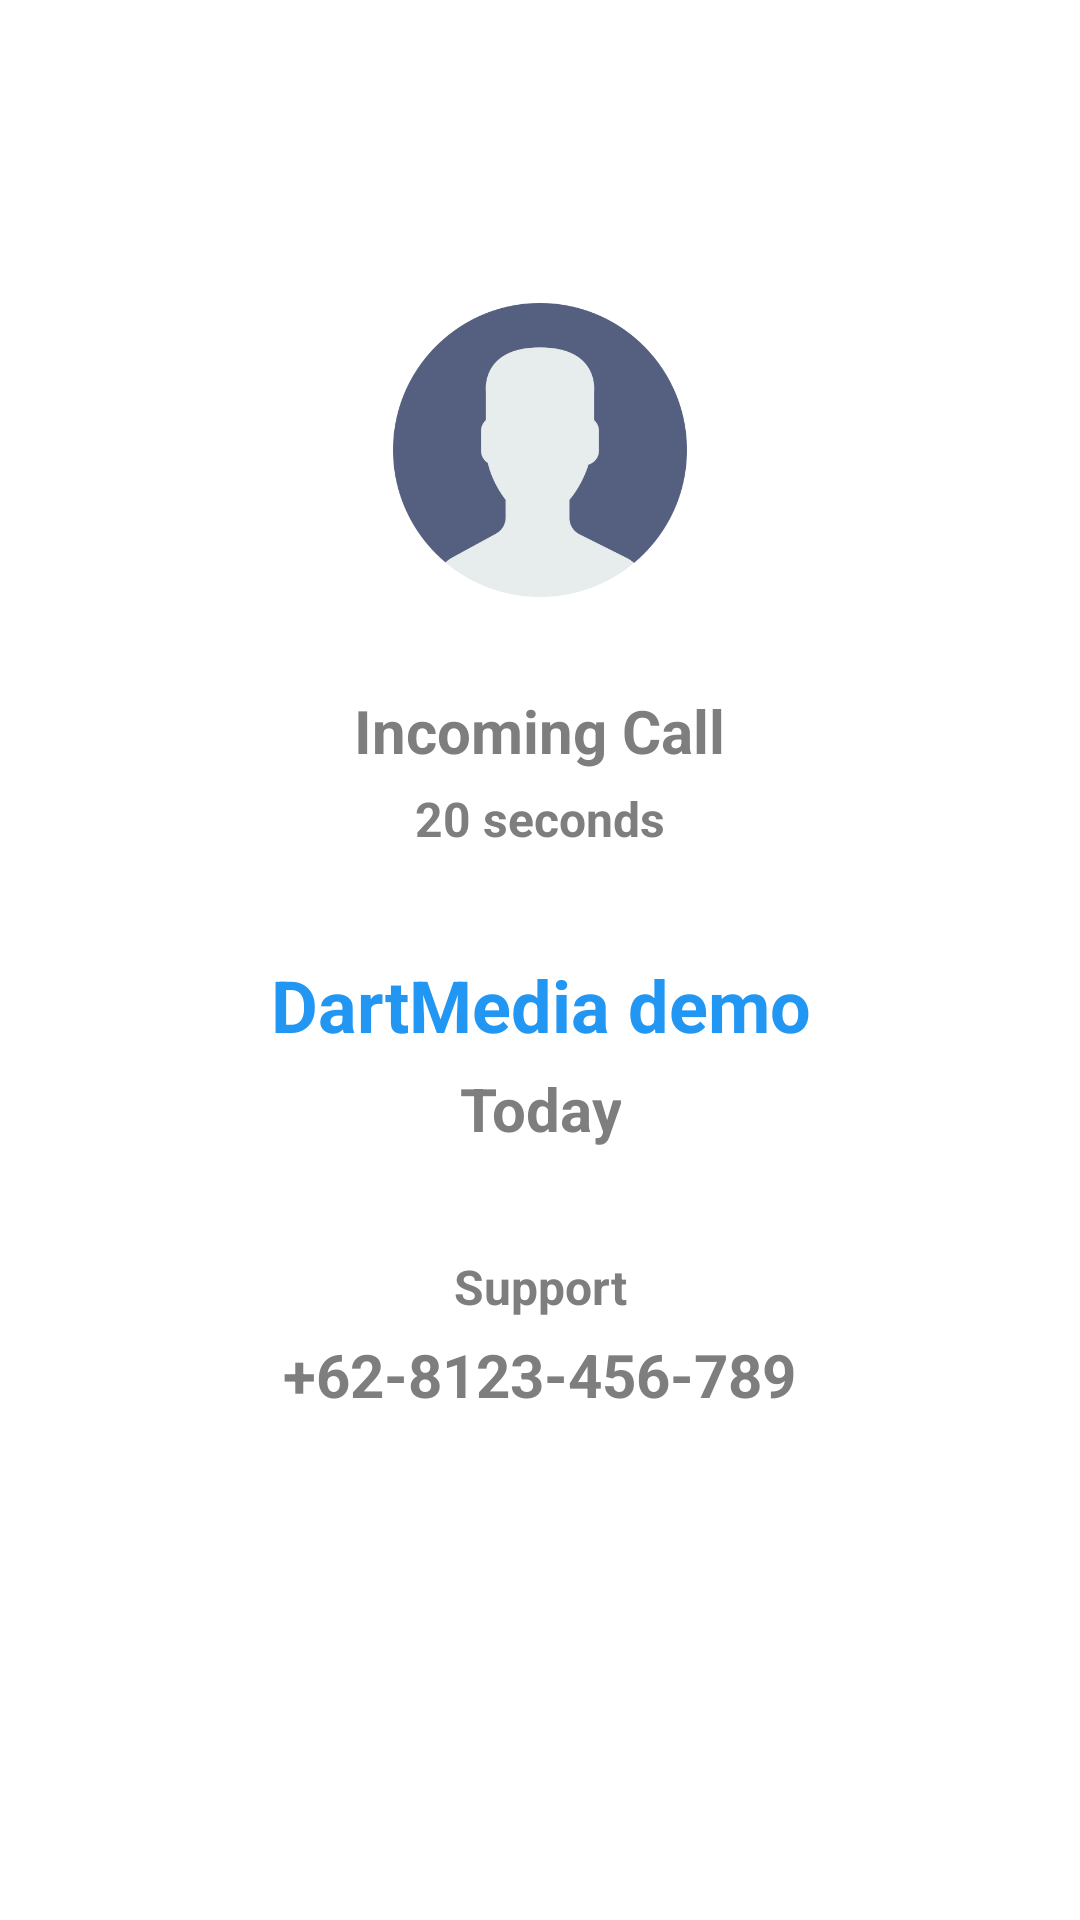

Icon bounding boxes for this 1080px×1920px phone screenshot, format [left=x1, top=y1, right=x2, bottom=y2]:
person: [left=393, top=303, right=687, bottom=563]
